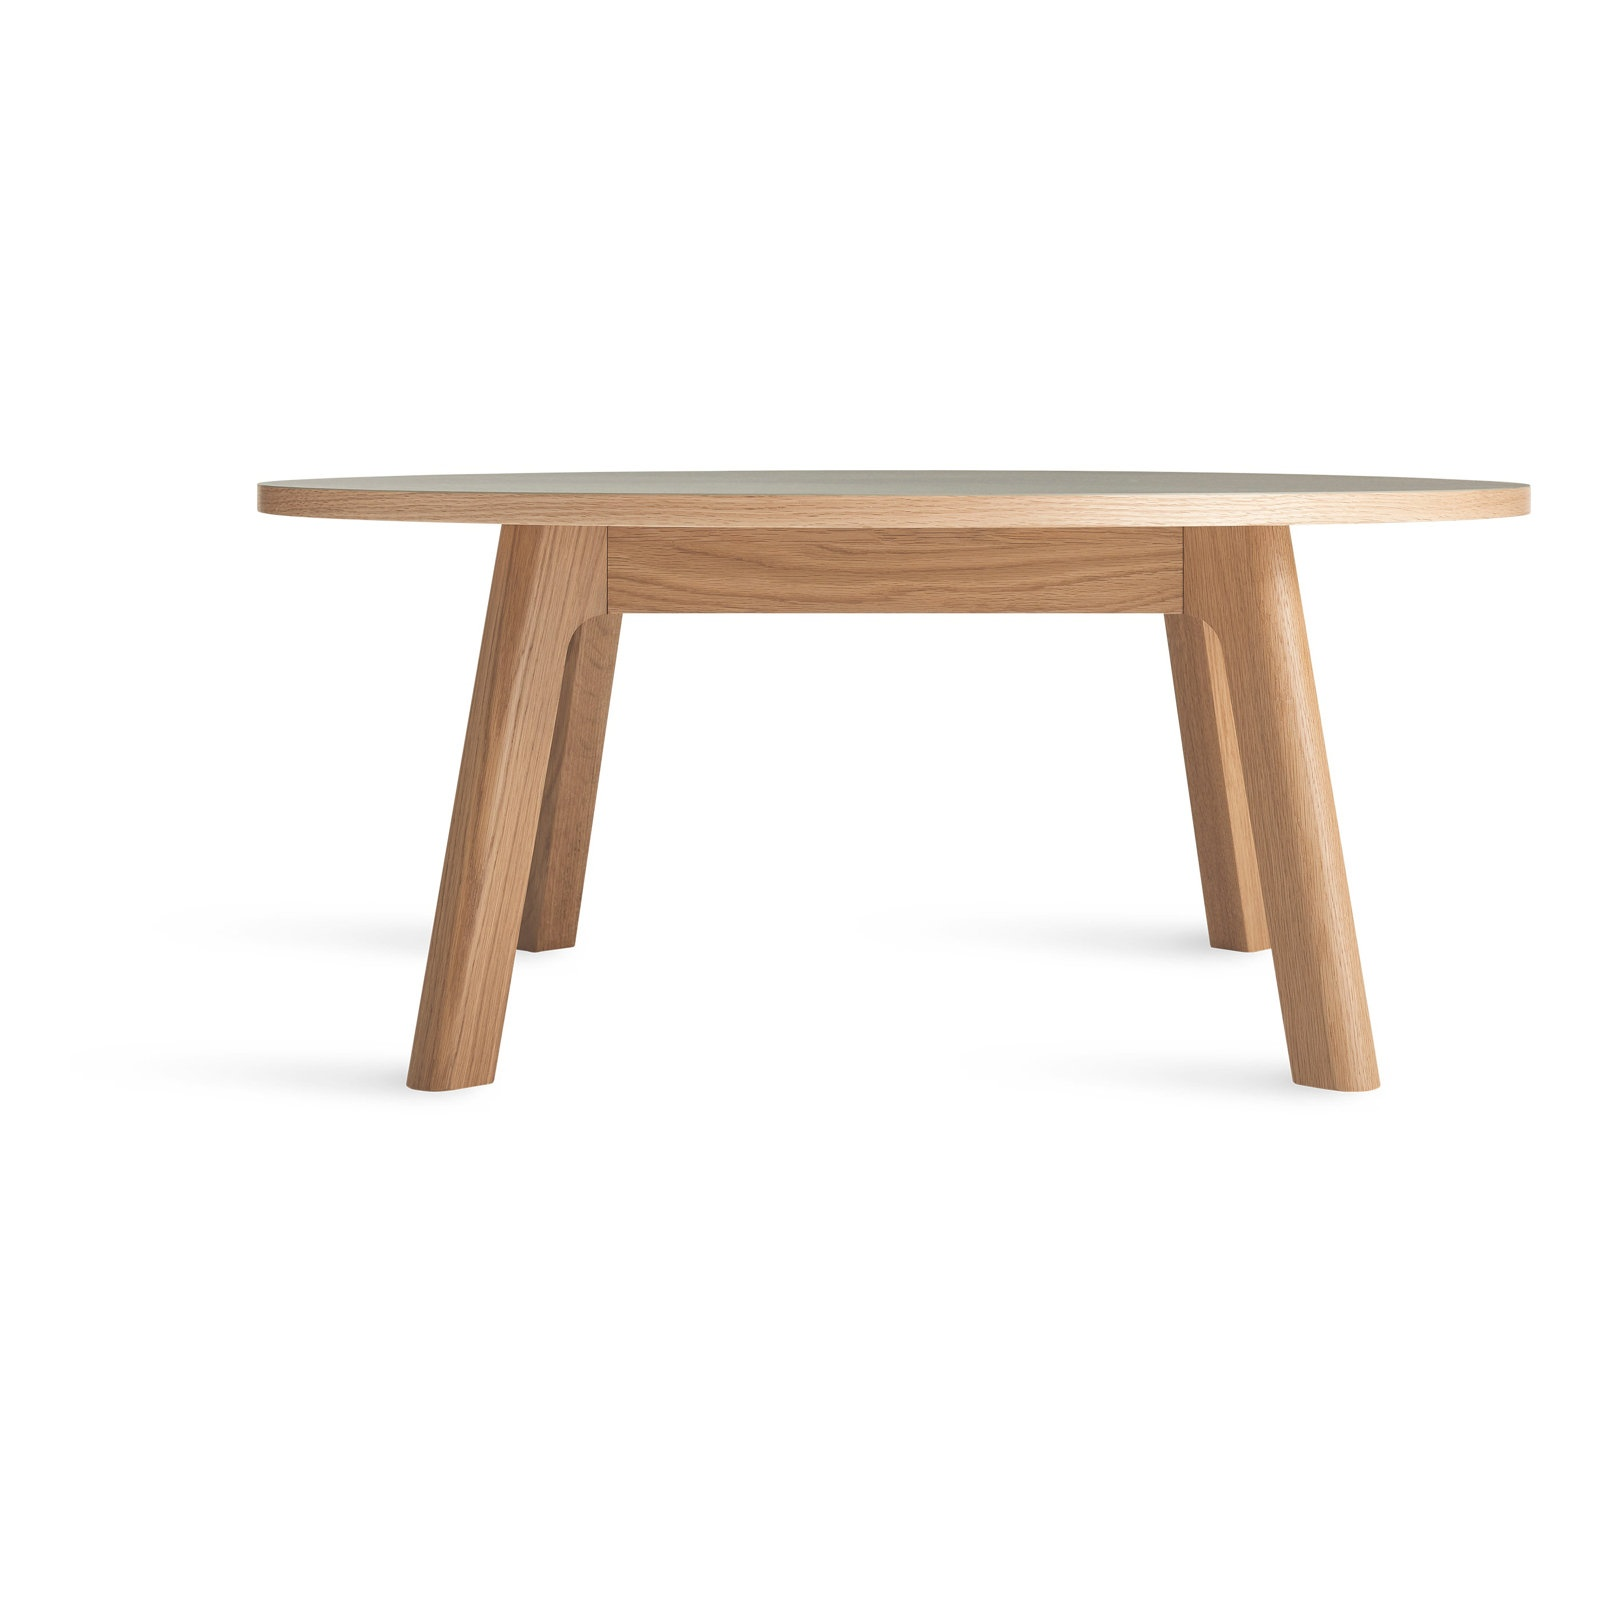obstacle: (258, 470, 1530, 1089)
